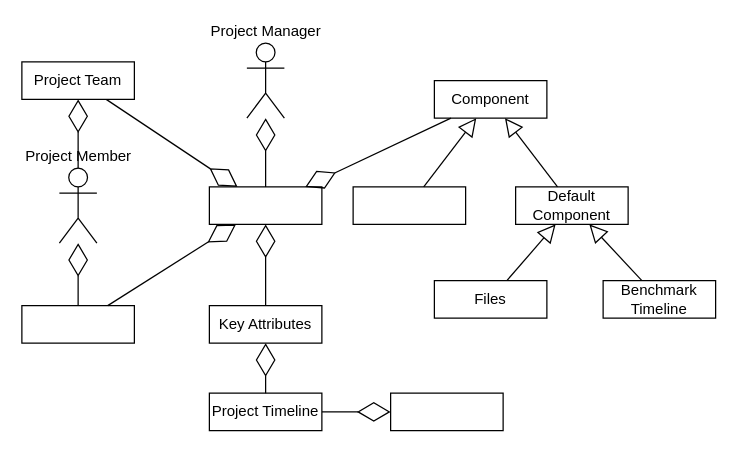
This 738x466 diagram has some shape labels left out. Each missing label, with the box of its shape:
Company Timeline: (389, 392, 503, 431)
Custom Component: (352, 186, 466, 224)
Post: (21, 304, 134, 343)
Project: (208, 186, 322, 224)
